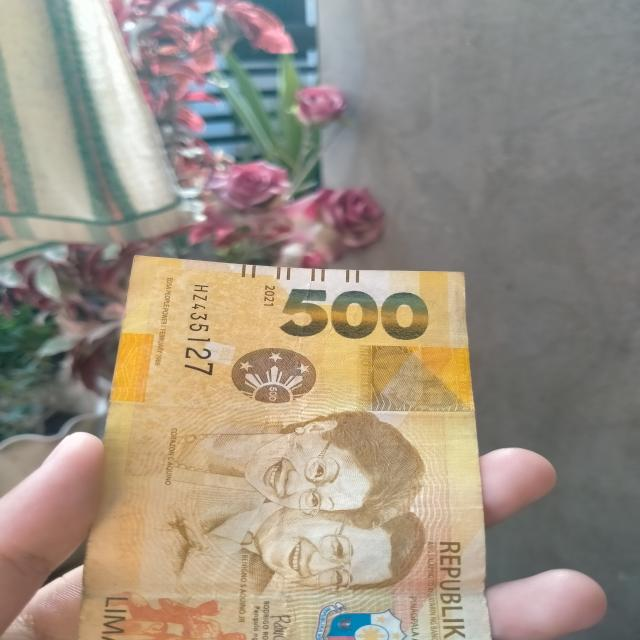concealed_value: (355, 344, 474, 415)
optically_variable_device: (219, 342, 326, 411)
value: (275, 286, 433, 342)
